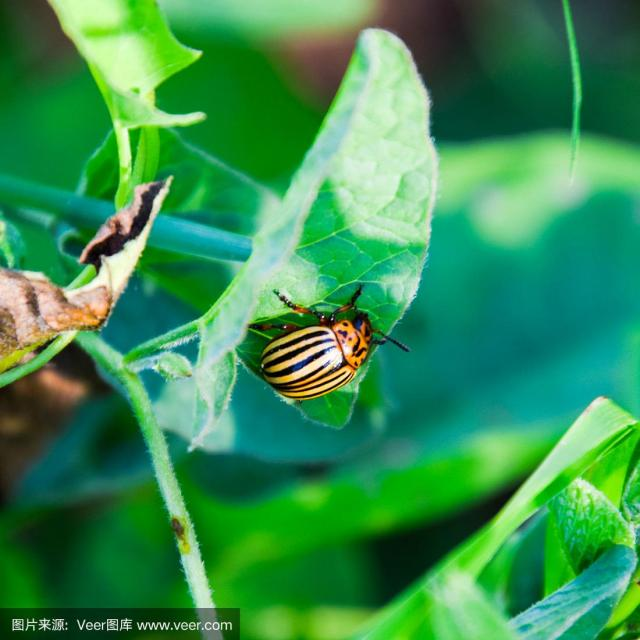ShuCaiHuaBanChong-Grown-: (240, 307, 398, 413)
